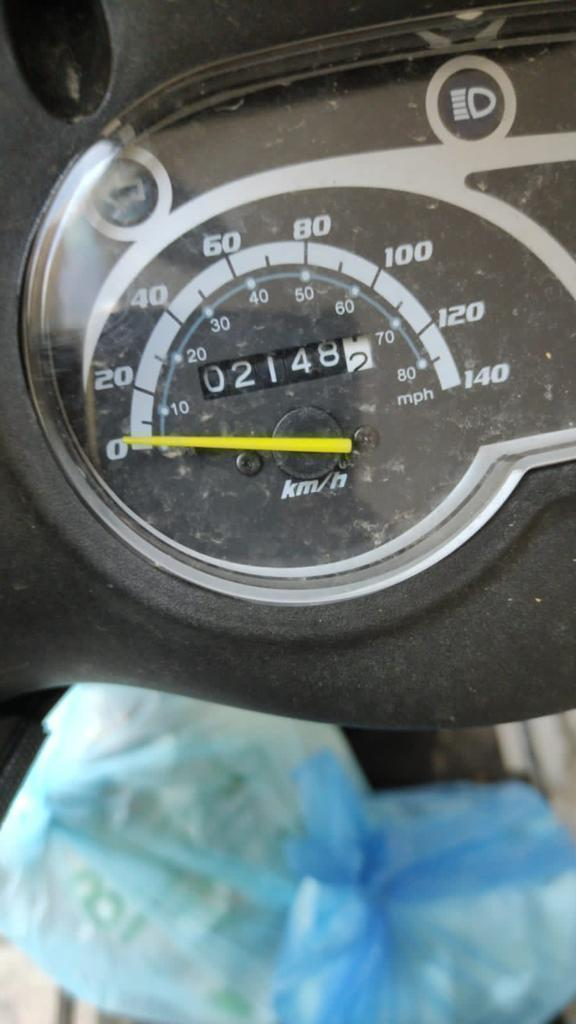0: (203, 363, 224, 393), (196, 346, 207, 360)
1: (266, 354, 277, 383)
2: (230, 359, 255, 389), (349, 350, 369, 376)
4: (290, 347, 312, 374)
8: (317, 340, 340, 367)
odometer: (196, 331, 376, 403)
